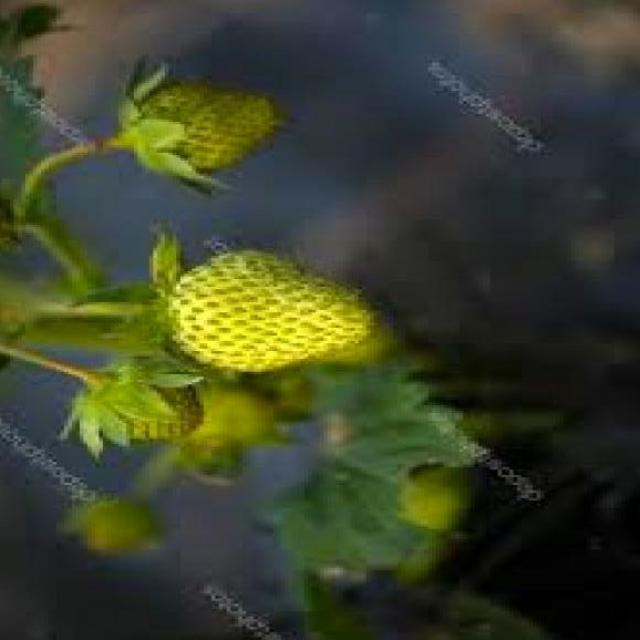Healthy Fruit: (157, 235, 402, 375)
